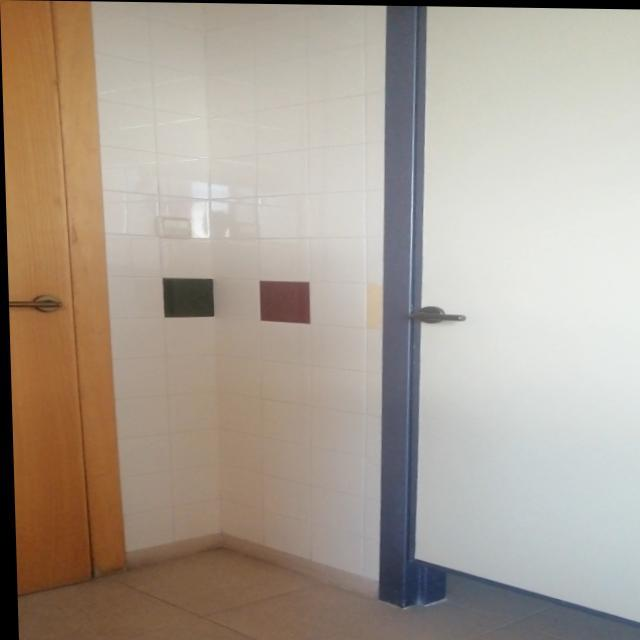door_handle: (397, 309, 466, 323), (7, 300, 65, 310)
